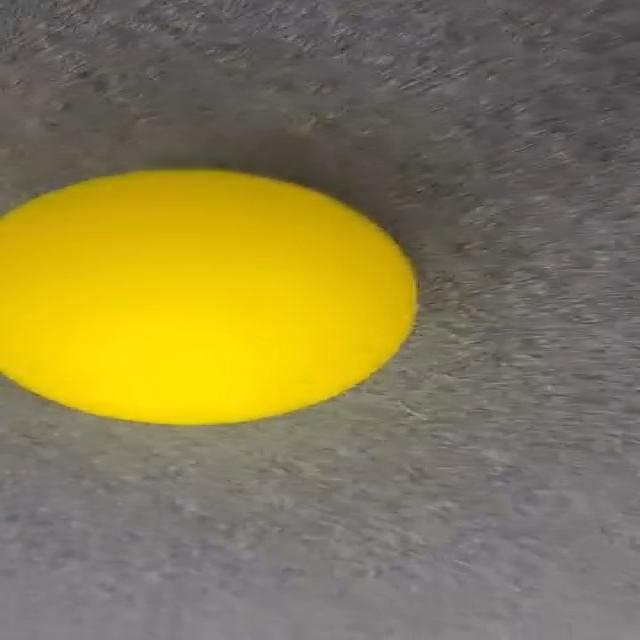Fuels: (0, 169, 416, 424)
